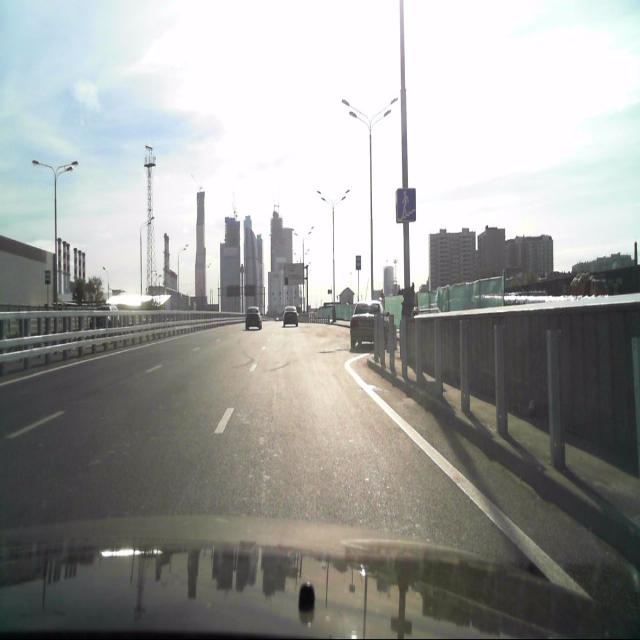road sign: (396, 187, 416, 221)
